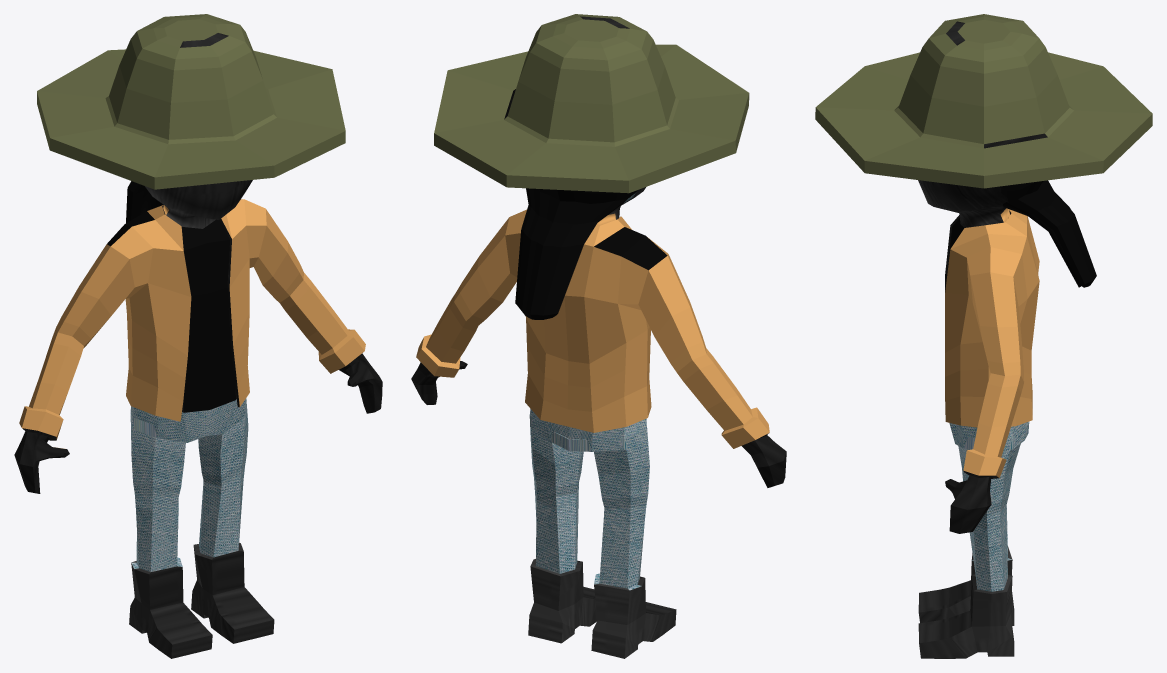
Rendered from g farmer.fbx.
The picture shows the model from 3 angles, left to right: view 1: azimuth 30°, elevation 25°; view 2: azimuth 150°, elevation 25°; view 3: azimuth 270°, elevation 25°; orthographic projection. The views are drawn at different scales.
Parts seen in each view (by area): view 1: Character.001; view 2: Character.001; view 3: Character.001.
Boxes of the visible parts, <box> form: Character.001: <box>14,14,382,658</box>; Character.001: <box>411,14,786,658</box>; Character.001: <box>815,14,1152,658</box>.
Size of the model in its own units: 447 by 704 by 358.
